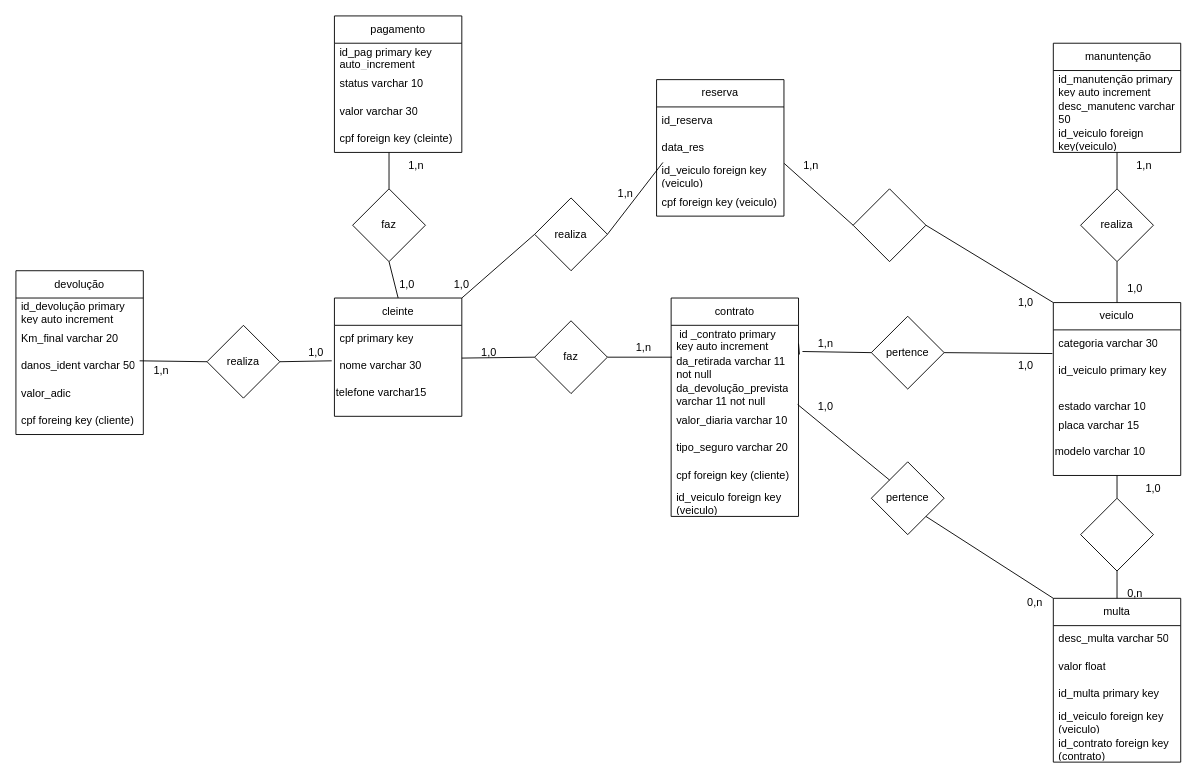
Some shapes in this 1197 by 778 pixel diagram are drawn without their labels. Here are the shapes that lost their labels. From the top down, the centre of each, then its label:
At [889,225]: "irá".
At [1116,534]: "recebe".
